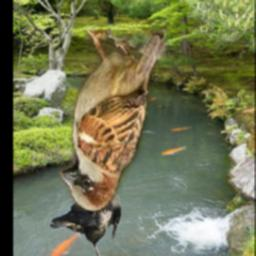Crow: (49, 189, 121, 256)
Sparrow: (59, 31, 166, 212)
